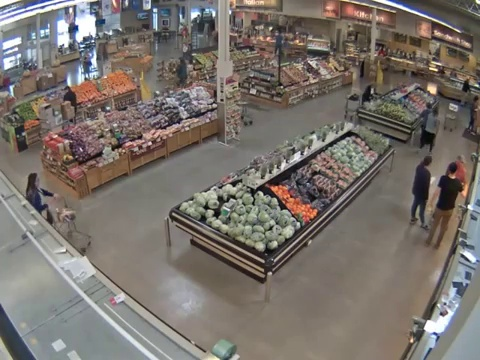face: (31, 176, 40, 188)
